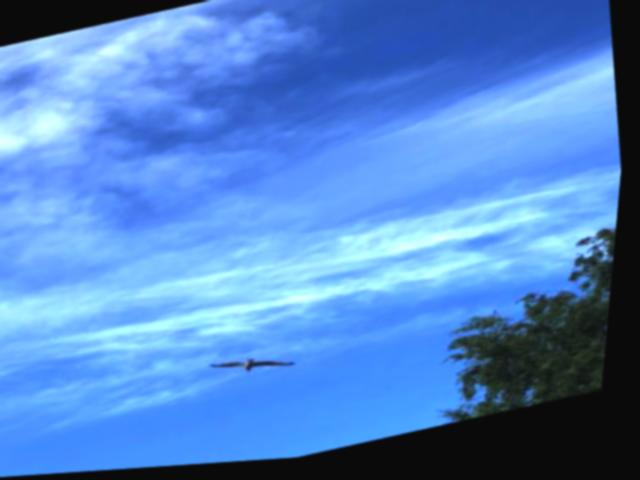bird: (215, 346, 304, 394)
